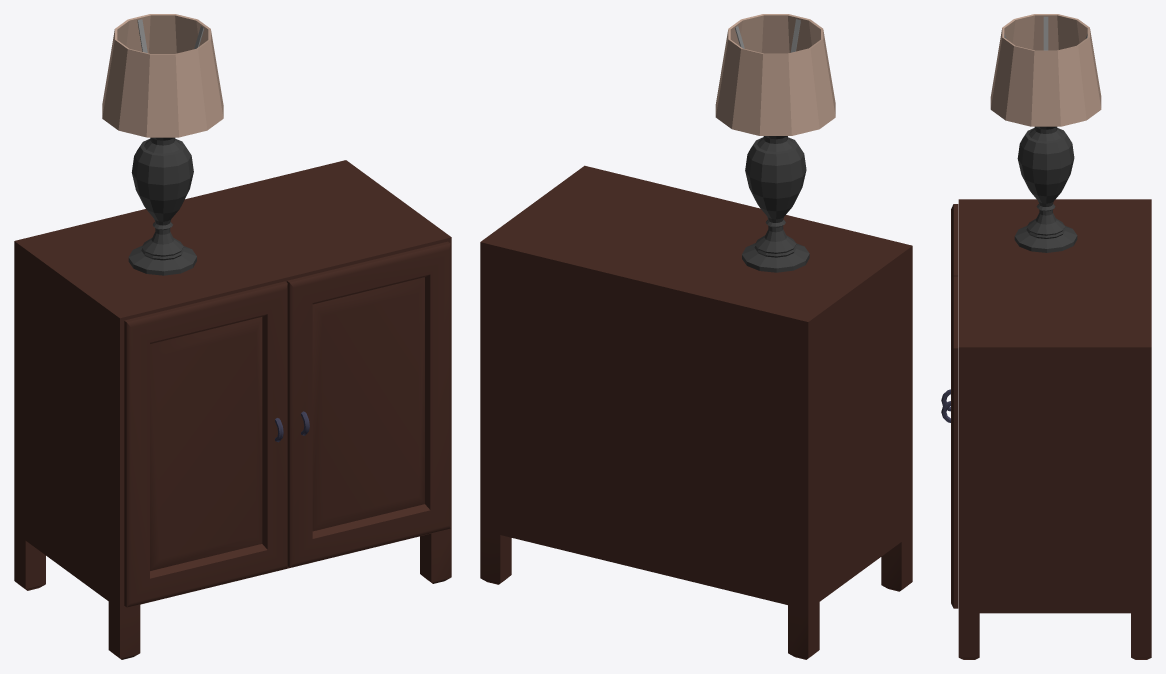
Rendered from Lamp Desk.fbx.
3 renders of one model, left to right at view 1: azimuth 30°, elevation 25°; view 2: azimuth 150°, elevation 25°; view 3: azimuth 270°, elevation 25°, orthographic. The views are drawn at different scales.
Visible parts, largest first — view 1: Lamp Desk; view 2: Lamp Desk; view 3: Lamp Desk.
Part boxes in pixels (bbox=[...]): Lamp Desk: bbox=[14, 14, 451, 659]; Lamp Desk: bbox=[480, 14, 912, 659]; Lamp Desk: bbox=[941, 14, 1151, 659].
Bounding box in the file's own units: 99.19 × 163 × 59.67.
